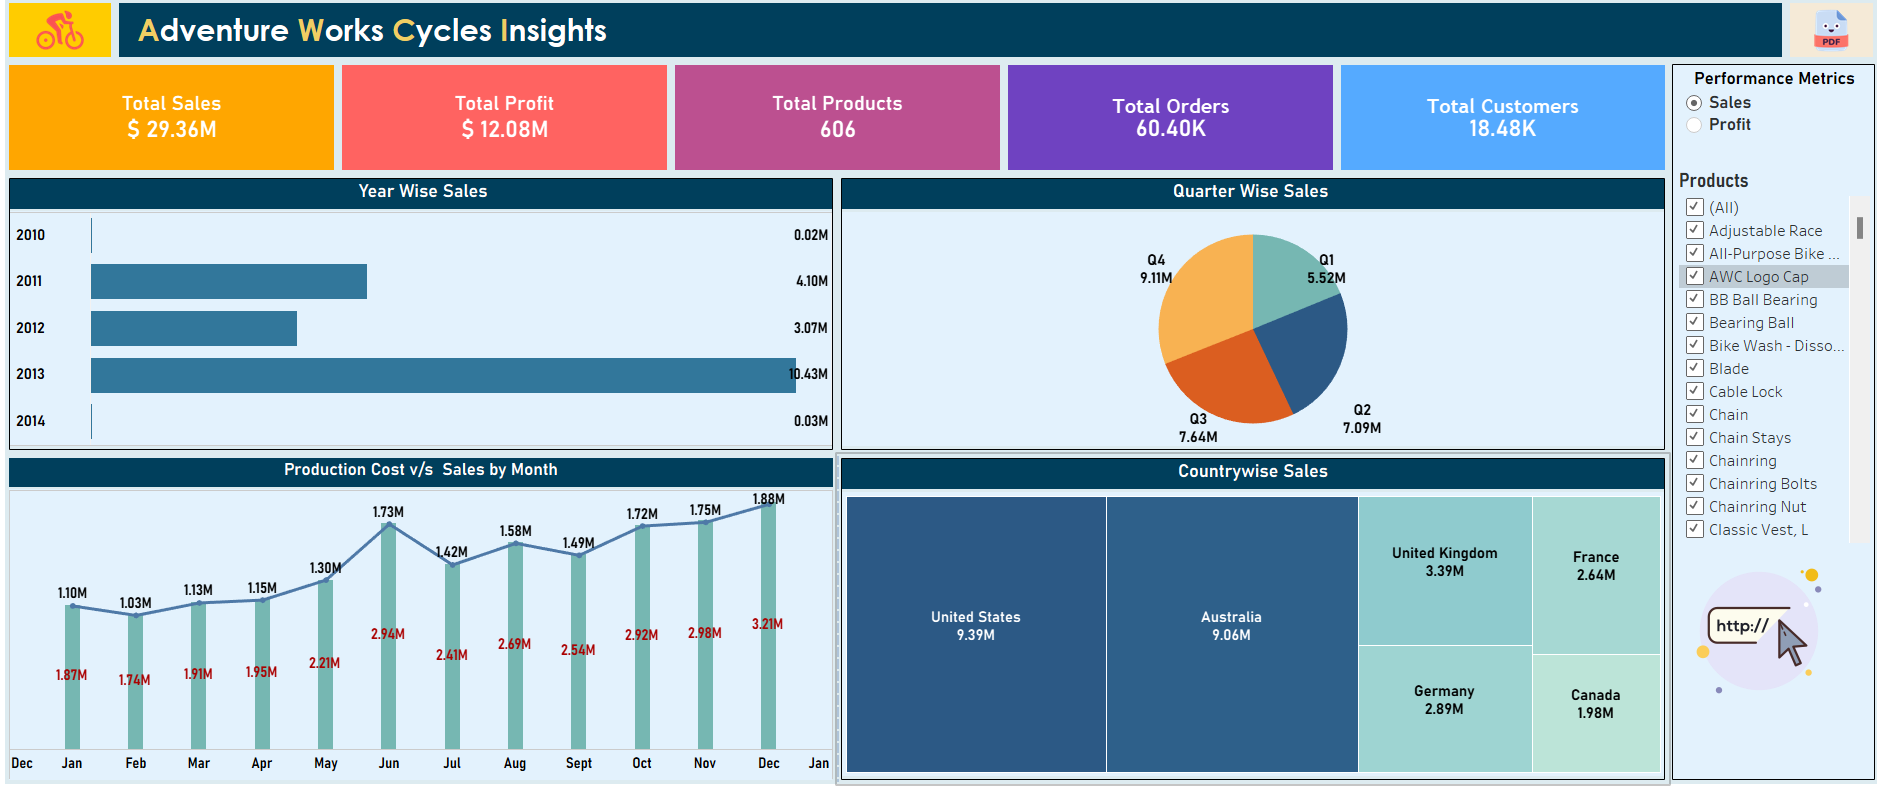

This screenshot's page, from the dashboard's own definition file:
{"tool":"tableau","page":{"name":"Adventure Works Dashboard","canvas":[1000,1000],"units":"permille","ordinal":0},"visuals":[{"type":"image","param":"Image/icons8-bicycle-64.png","box":[4.8,10,58.1,77.6]},{"type":"text","box":[63,10,883.8,77.6]},{"type":"dashboard-object","box":[946.8,10,48.4,77.6]},{"type":"worksheet","title":"Total Sales","mark":"Automatic","box":[4.8,87.4,176.4,141.1]},{"type":"worksheet","title":"Total Profit","mark":"Automatic","box":[181.2,87.4,176.4,141.1]},{"type":"worksheet","title":"Total Products","mark":"Automatic","box":[357.6,87.4,175.8,141.1]},{"type":"worksheet","title":"Total Orders","mark":"Automatic","box":[533.4,87.4,175.8,141.1]},{"type":"worksheet","title":"Total Customers","mark":"Automatic","box":[709.2,87.4,175.8,141.1]},{"type":"parameter","param":"[Parameters].[Parameter 1]","box":[888.9,95.1,104.5,124.9]},{"type":"filter","title":"filter","param":"[federated.1l22dmo1hdtpxq1ed1ydr0dyge42].[none:EnglishProductName:nk]","box":[888.9,219.9,104.5,474.2]},{"type":"worksheet","title":"YEAR WISE","mark":"Bar","rows":["OrderDate"],"box":[4.8,228.5,440.1,349.6]},{"type":"worksheet","title":"QUARTER WISE","mark":"Pie","box":[444.9,228.5,440.1,349.6]},{"type":"worksheet","title":"production cost v/s s/p by month","mark":"Automatic","rows":["Calculation_1821987559256883201","Calculation_1879126979470942209"],"cols":["OrderDate"],"box":[4.8,578,440.1,412]},{"type":"worksheet","title":"Countrywise","mark":"Automatic","box":[444.9,578,440.1,412]},{"type":"image","param":"Image/download (2).png","box":[888.9,694.1,104.5,249.7]},{"type":"worksheet","title":"filter","mark":"Automatic","box":[888.9,943.8,104.5,40]}]}

Visuals, with their boxes on the dashboard's canvas, which has no fixed pixel size, in thousandths of its width and height (x1, y1, x2, y2). These are canvas units, not pixel positions in the 1881x787 screenshot, which may show the page scaled, cropped or inside an application window:
image: crop(5, 10, 63, 88)
text: crop(63, 10, 947, 88)
dashboard-object: crop(947, 10, 995, 88)
"Total Sales" worksheet: crop(5, 87, 181, 228)
"Total Profit" worksheet: crop(181, 87, 358, 228)
"Total Products" worksheet: crop(358, 87, 533, 228)
"Total Orders" worksheet: crop(533, 87, 709, 228)
"Total Customers" worksheet: crop(709, 87, 885, 228)
parameter: crop(889, 95, 993, 220)
"filter" filter: crop(889, 220, 993, 694)
"YEAR WISE" worksheet (Bar marks): crop(5, 228, 445, 578)
"QUARTER WISE" worksheet (Pie marks): crop(445, 228, 885, 578)
"production cost v/s s/p by month" worksheet: crop(5, 578, 445, 990)
"Countrywise" worksheet: crop(445, 578, 885, 990)
image: crop(889, 694, 993, 944)
"filter" worksheet: crop(889, 944, 993, 984)
